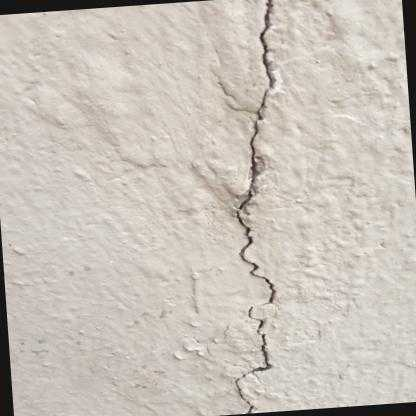crack: (229, 0, 280, 414)
